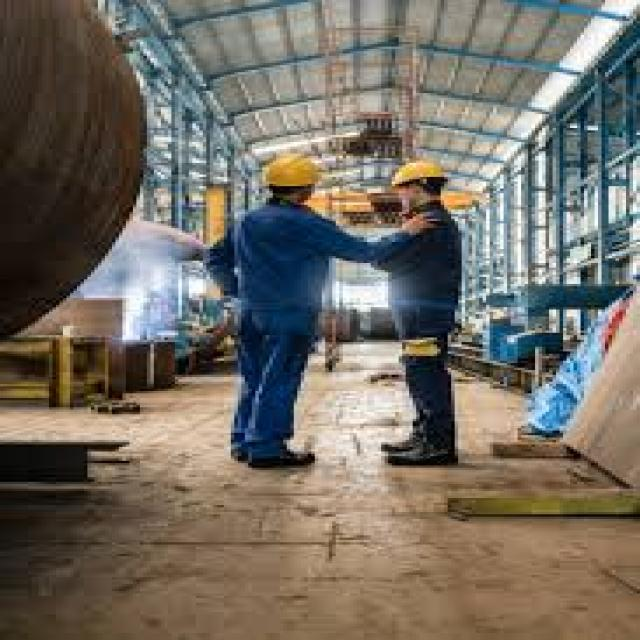Safety-Helmet: (245, 144, 336, 198), (374, 152, 462, 196)
